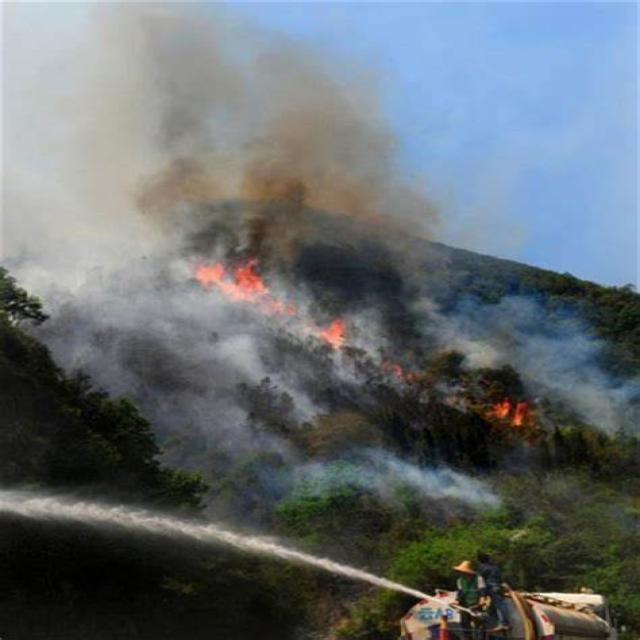Fire: (195, 258, 298, 318), (483, 400, 535, 430), (317, 318, 347, 350)
Smoke: (1, 1, 639, 522)
